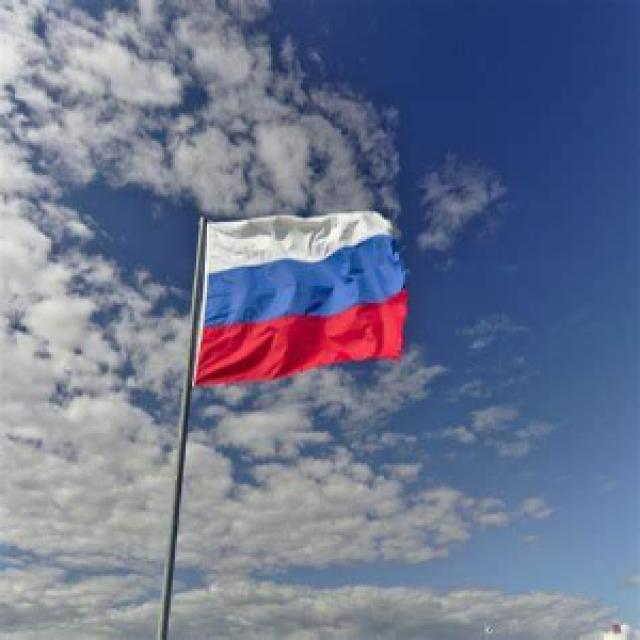russia: (167, 196, 429, 394)
